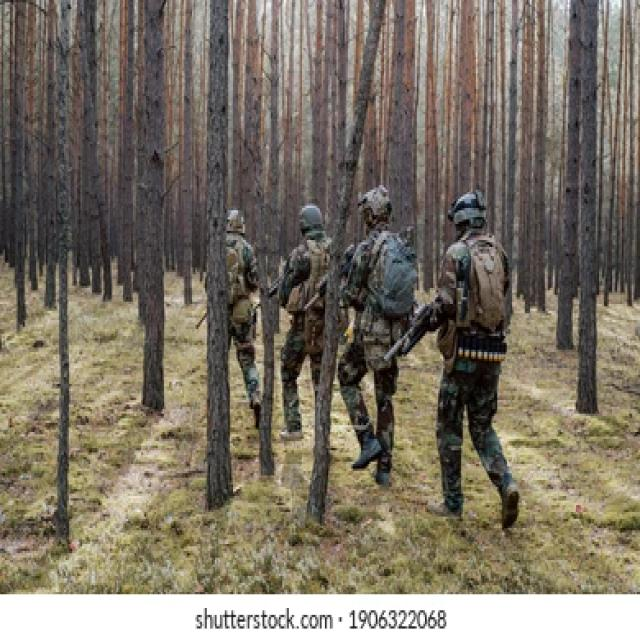soldier: (430, 195, 529, 511), (345, 187, 425, 485), (204, 188, 270, 473), (278, 188, 343, 447)
